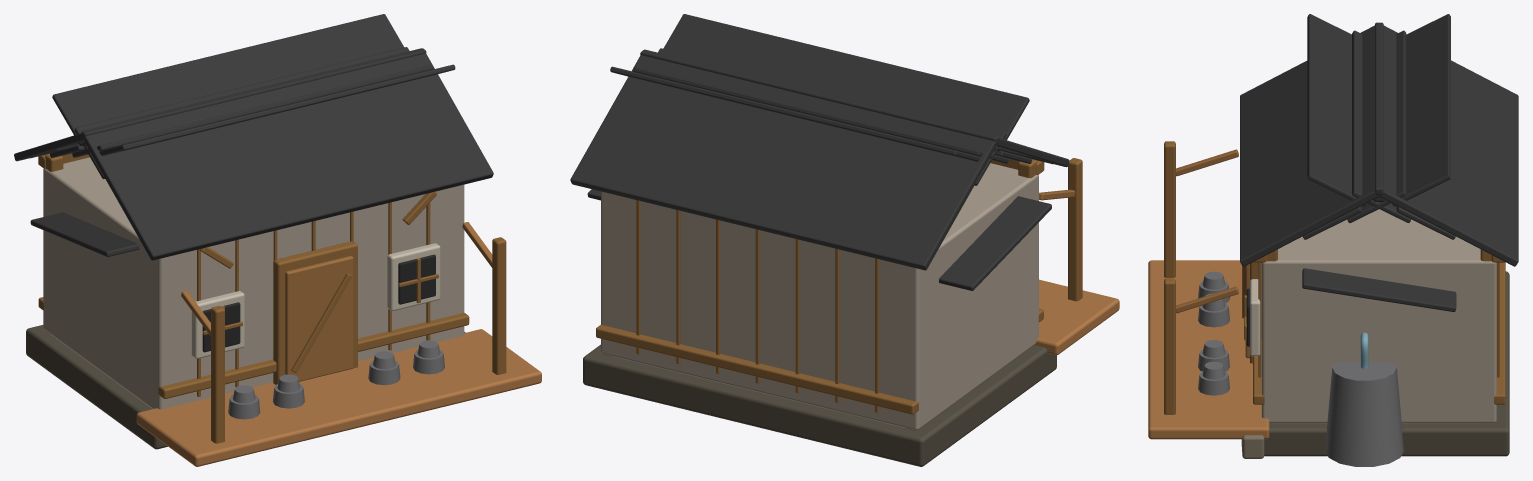
File: creamery-workshop.glb
3 renders of one model, left to right at view 1: azimuth 30°, elevation 25°; view 2: azimuth 150°, elevation 25°; view 3: azimuth 270°, elevation 25°, orthographic. The views are drawn at different scales.
Visible parts, largest first — view 1: creamery-workshop-farm-roof-slate, creamery-workshop-farm-plaster, creamery-workshop-farm-wood-light, creamery-workshop-farm-wood-dark, creamery-workshop-farm-wood, creamery-workshop-farm-stone-dark, creamery-workshop-farm-metal, creamery-workshop-farm-trim, creamery-workshop-farm-window; view 2: creamery-workshop-farm-roof-slate, creamery-workshop-farm-plaster, creamery-workshop-farm-stone-dark, creamery-workshop-farm-wood-dark, creamery-workshop-farm-wood-light; view 3: creamery-workshop-farm-roof-slate, creamery-workshop-farm-plaster, creamery-workshop-farm-wood-light, creamery-workshop-farm-metal, creamery-workshop-farm-stone-dark, creamery-workshop-farm-wood-dark, creamery-workshop-farm-wood, creamery-workshop-farm-trim, creamery-workshop-farm-stone.
Part boxes in pixels (x1=…): creamery-workshop-farm-roof-slate: x1=14, y1=14, x2=493, y2=260; creamery-workshop-farm-plaster: x1=43, y1=157, x2=464, y2=409; creamery-workshop-farm-wood-light: x1=136, y1=329, x2=541, y2=466; creamery-workshop-farm-wood-dark: x1=38, y1=153, x2=506, y2=443; creamery-workshop-farm-wood: x1=181, y1=222, x2=492, y2=381; creamery-workshop-farm-stone-dark: x1=26, y1=325, x2=465, y2=449; creamery-workshop-farm-metal: x1=228, y1=340, x2=444, y2=419; creamery-workshop-farm-trim: x1=191, y1=243, x2=440, y2=358; creamery-workshop-farm-window: x1=202, y1=254, x2=435, y2=352; creamery-workshop-farm-roof-slate: x1=570, y1=14, x2=1069, y2=290; creamery-workshop-farm-plaster: x1=601, y1=163, x2=1038, y2=430; creamery-workshop-farm-stone-dark: x1=583, y1=344, x2=1056, y2=466; creamery-workshop-farm-wood-dark: x1=596, y1=158, x2=1082, y2=430; creamery-workshop-farm-wood-light: x1=1035, y1=279, x2=1119, y2=355; creamery-workshop-farm-roof-slate: x1=1240, y1=14, x2=1518, y2=311; creamery-workshop-farm-plaster: x1=1261, y1=209, x2=1496, y2=423; creamery-workshop-farm-wood-light: x1=1148, y1=260, x2=1269, y2=439; creamery-workshop-farm-metal: x1=1198, y1=271, x2=1403, y2=466; creamery-workshop-farm-stone-dark: x1=1264, y1=271, x2=1509, y2=456; creamery-workshop-farm-wood-dark: x1=1164, y1=141, x2=1505, y2=423; creamery-workshop-farm-wood: x1=1176, y1=149, x2=1249, y2=358; creamery-workshop-farm-trim: x1=1250, y1=279, x2=1260, y2=356; creamery-workshop-farm-stone: x1=1241, y1=435, x2=1264, y2=458.
Size of the model in its own units: 5.99 by 4.26 by 5.04.
